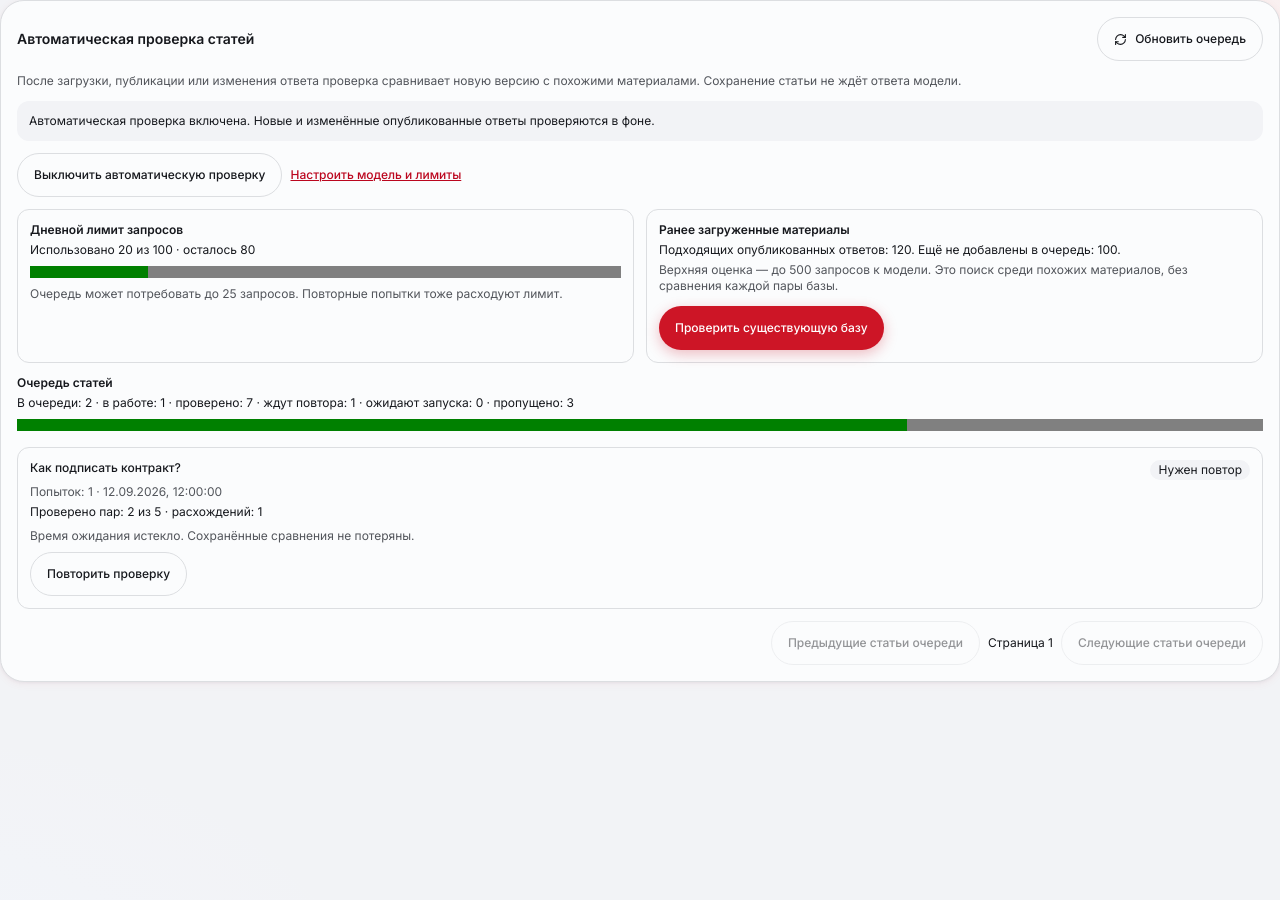
Автоматическая проверка базы знаний › ошибка повтора остаётся возле очереди и не убирает статью
Click the button with aria-label "Повторить: Как подписать контракт?".
click(109, 574)  # box [30, 552, 187, 596]
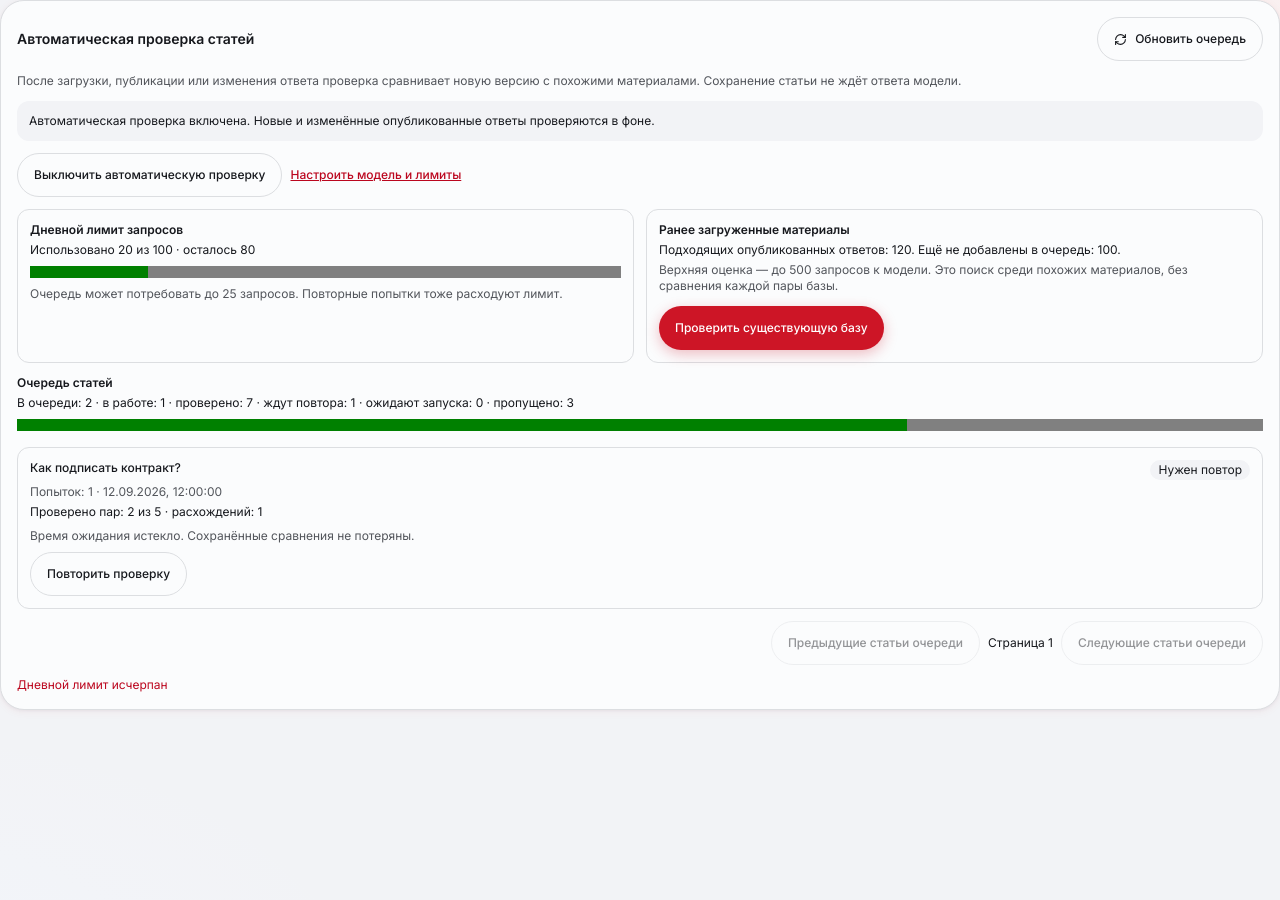
Expected: the heading "Как подписать контракт?" is shown, [30, 460, 181, 475]
Now the text "Дневной лимит исчерпан" is shown, box [17, 677, 168, 692]
